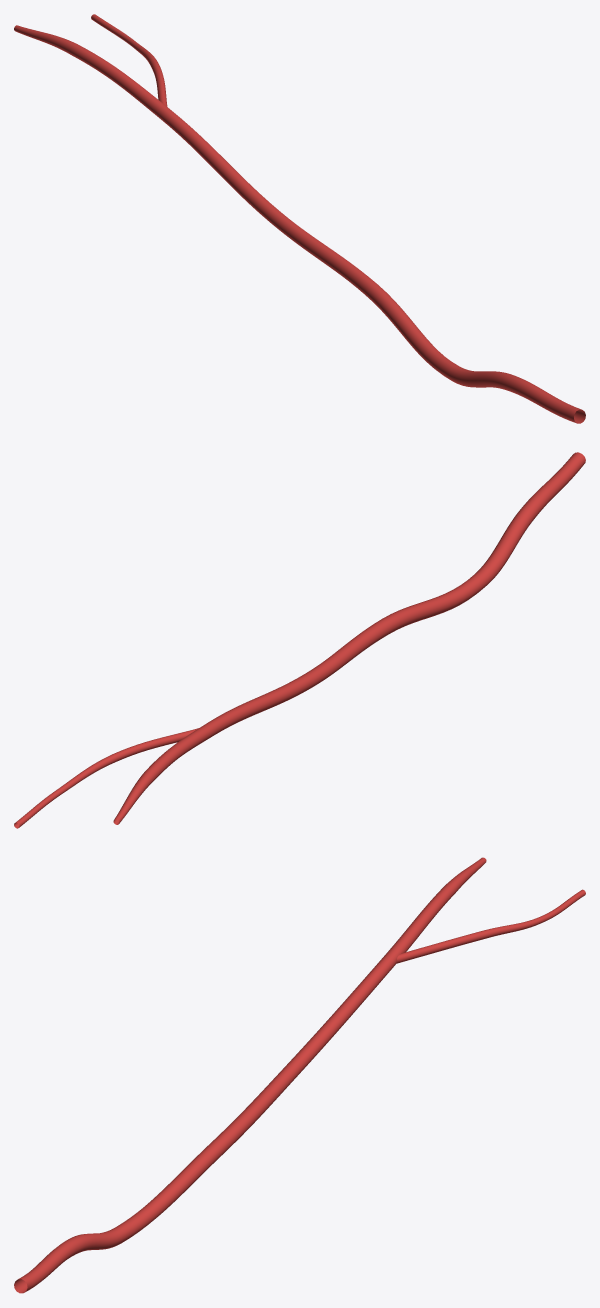
3 views of the same model, one above another, from view 1: azimuth 30°, elevation 25°; view 2: azimuth 150°, elevation 25°; view 3: azimuth 330°, elevation 25° (orthographic). The views are drawn at different scales.
Visible parts, largest first — view 1: 右侧腹壁上动脉; view 2: 右侧腹壁上动脉; view 3: 右侧腹壁上动脉.
Boxes of the visible parts, bbox=[...] form: 右侧腹壁上动脉: bbox=[14, 14, 585, 423]; 右侧腹壁上动脉: bbox=[14, 452, 585, 828]; 右侧腹壁上动脉: bbox=[14, 857, 585, 1293].
Bounding box in the file's own units: 0.0249 × 0.0222 × 0.2388.
